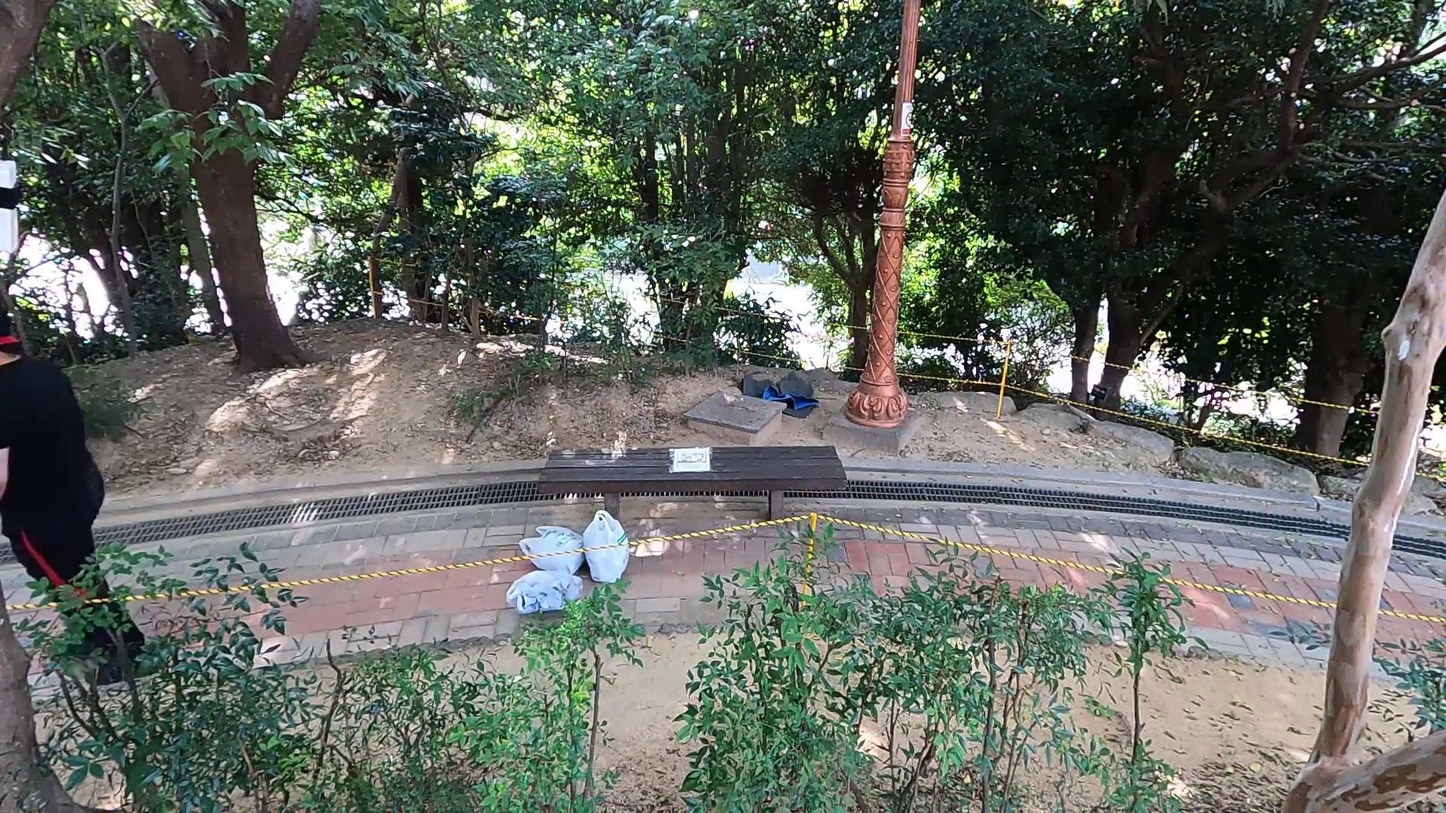person: (0, 288, 167, 696)
trash: (581, 507, 637, 584), (505, 567, 587, 618), (518, 524, 587, 578)
